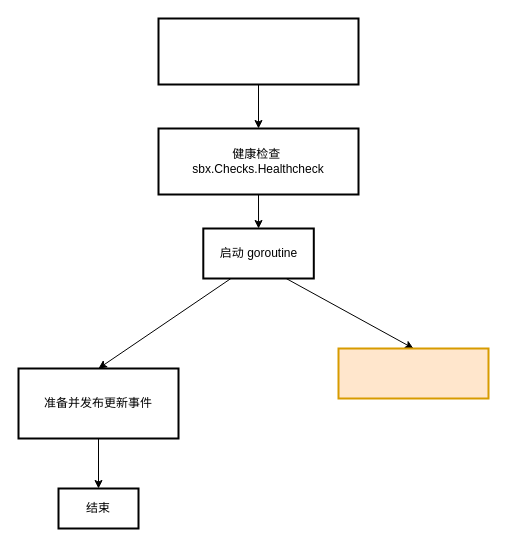
This 506x546 diagram has some shape labels left out. Here are the shapes that lost their labels. From the top down, the centre of each, then its label:
At [258,51]: "从缓存移除沙箱 s.sandboxes.Remove".
At [413,373]: "停止沙箱 sbx.Stop （调用Process.stop）".
